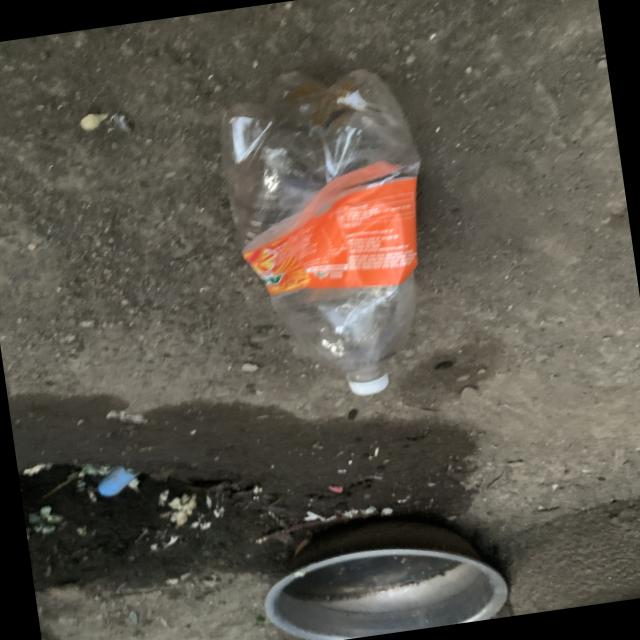Bottle: (222, 70, 420, 396)
